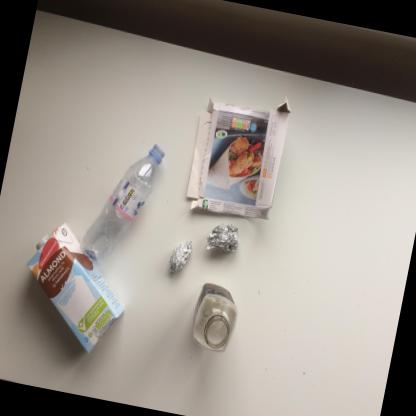Metal: (206, 222, 238, 250), (168, 239, 191, 273)
Paper: (25, 221, 124, 353), (185, 95, 289, 218)
Plastic: (78, 142, 164, 265), (192, 281, 236, 350)
